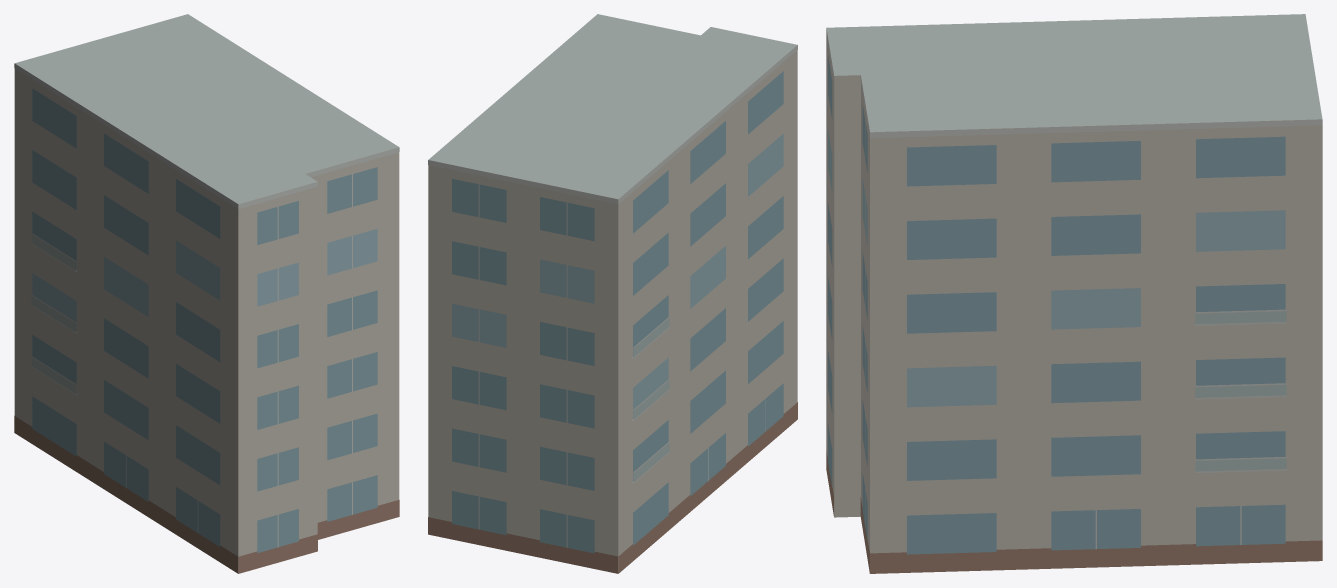
Rendered from survey-upis-33043378.glb.
The picture shows the model from 3 angles, left to right: view 1: azimuth 30°, elevation 25°; view 2: azimuth 150°, elevation 25°; view 3: azimuth 270°, elevation 25°; orthographic projection. The views are drawn at different scales.
Parts seen in each view (by area): view 1: survey-upis-33043378.tmp; view 2: survey-upis-33043378.tmp; view 3: survey-upis-33043378.tmp.
Boxes of the visible parts, x1=… form: survey-upis-33043378.tmp: x1=14, y1=14, x2=399, y2=573; survey-upis-33043378.tmp: x1=428, y1=14, x2=797, y2=573; survey-upis-33043378.tmp: x1=826, y1=14, x2=1322, y2=573.
Size of the model in its own units: 10.52 by 18.3 by 18.64.
